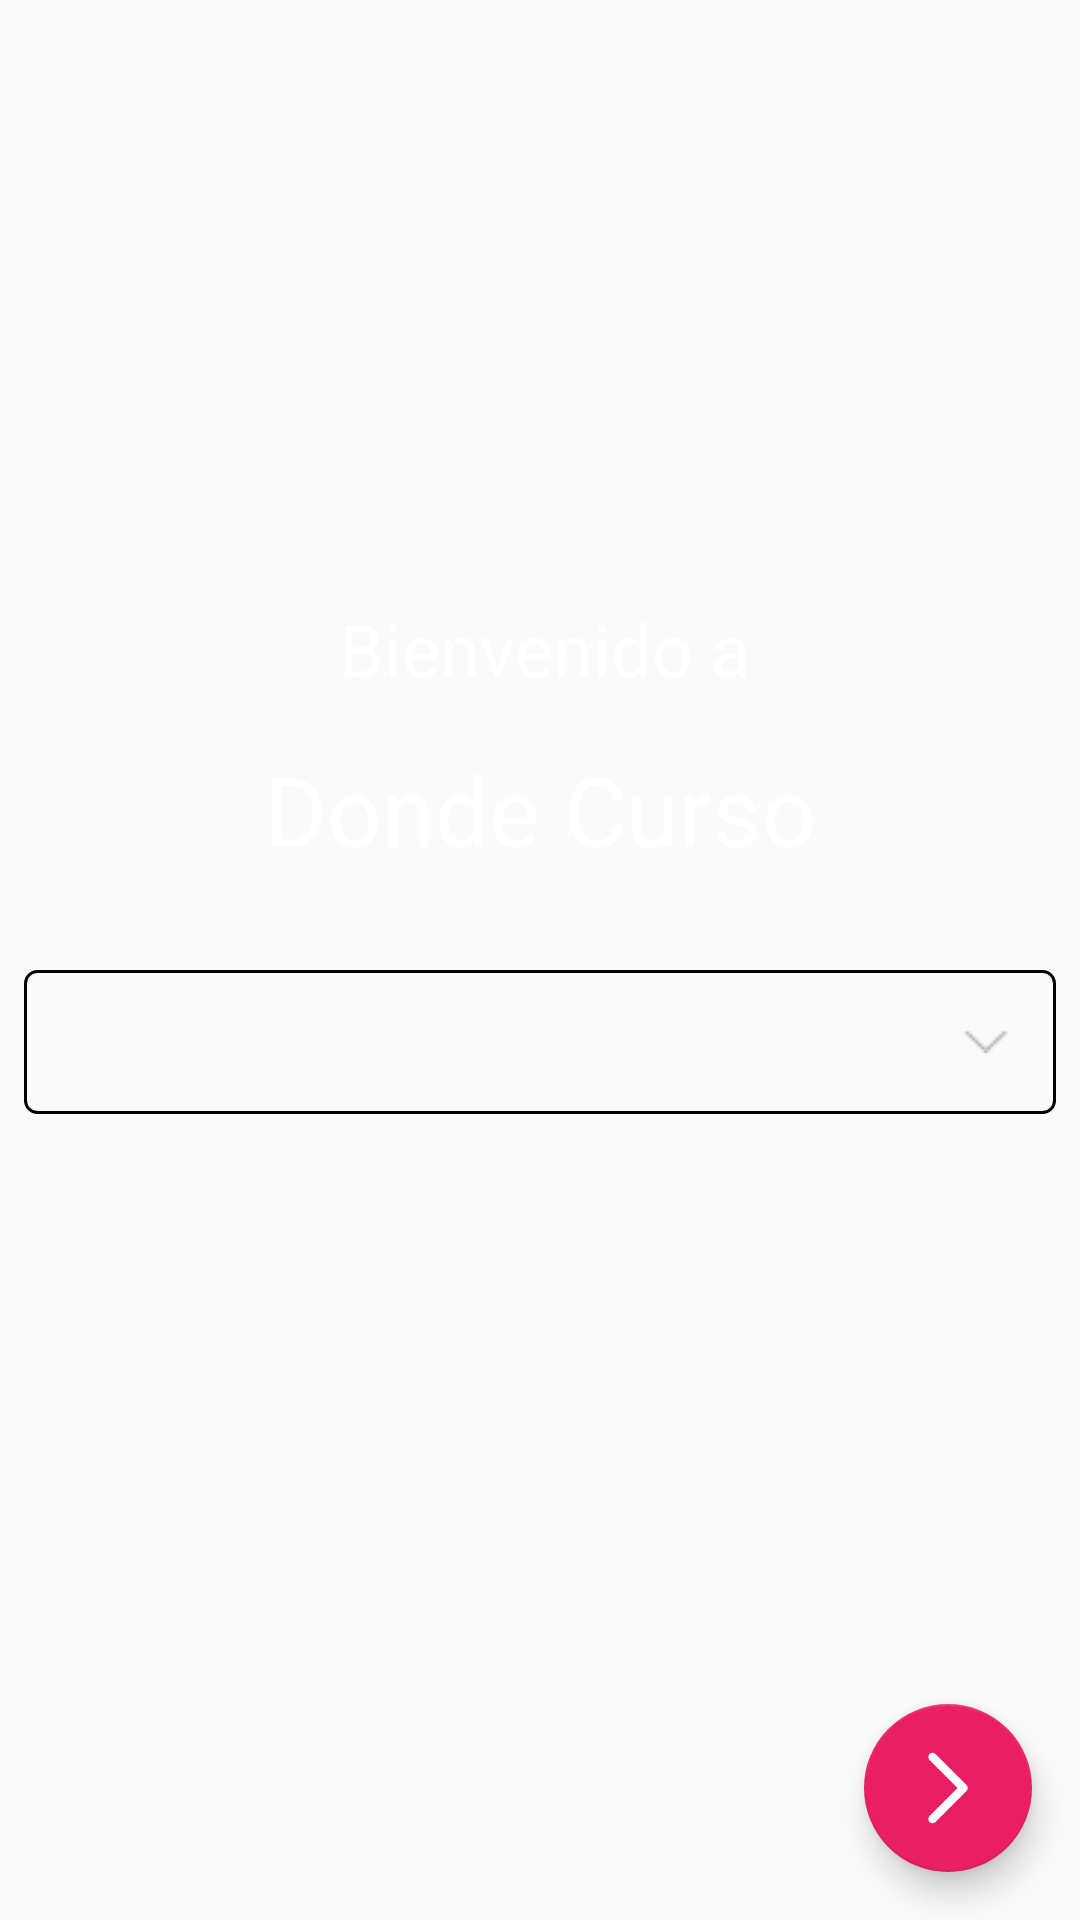

Named icons in this screenshot (1080*1920) and their bounding boxes, (x1, y1, x2, y2):
next: (864, 1704, 1032, 1872)
